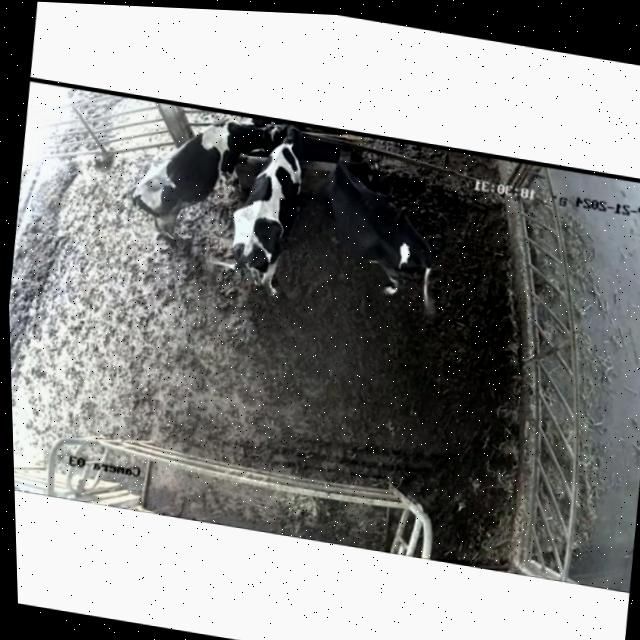drink: (260, 120, 311, 175), (211, 111, 264, 162)
stand: (308, 146, 460, 327)
